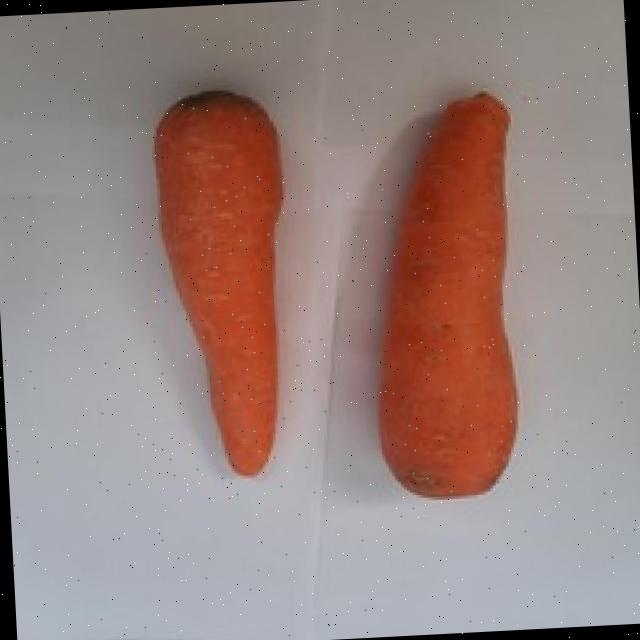carrot: (379, 93, 517, 498), (154, 91, 283, 476)
